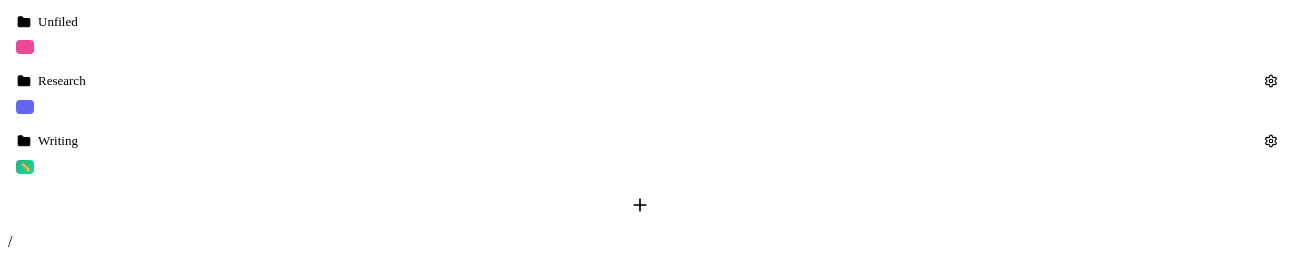
Test case: AgentsSidebar › double-clicking a folder name shows an inline rename input
expect the text "Writing" is shown: met, box [38,133,78,148]
Double-click the button with test id "folder-name-f1".
double_click(58, 140)  # box [17,132,1280,150]
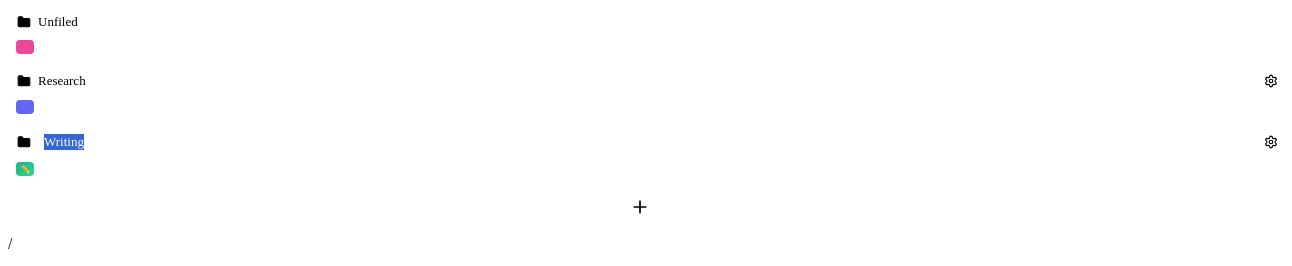
expect the field with test id "folder-rename-f1" holds "Writing": met, box [38,132,1256,152]
